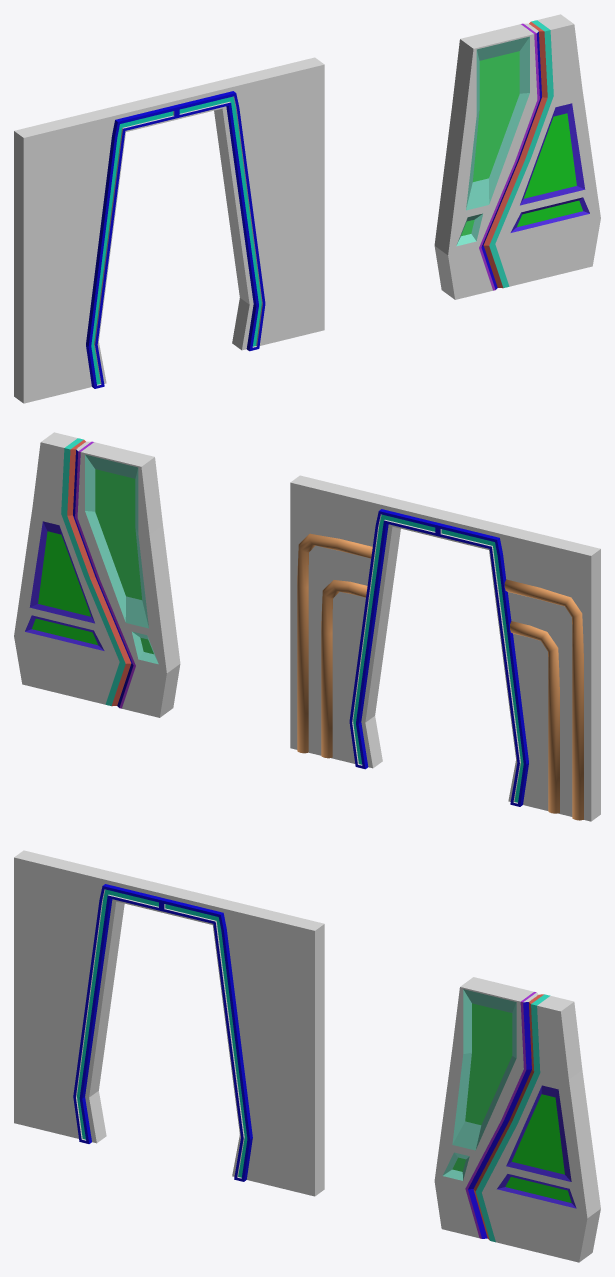
Rendered from Puerta+ParedCh.fbx.
The picture shows the model from 3 angles, top to bottom: view 1: azimuth 30°, elevation 25°; view 2: azimuth 150°, elevation 25°; view 3: azimuth 330°, elevation 25°; orthographic projection.
Parts seen in each view (by area): view 1: ParedPPuertaCh, PartePuertaCh1.006, PartePuertaCh1.001, ParedPPuertaCh.003, PartePuertaCh1.009, PartePuertaCh1, PartePuertaCh1.004, ParedPPuertaCh.002, PartePuertaCh1.005, PartePuertaCh1.003, PartePuertaCh1.007, PartePuertaCh1.008 (+1 smaller); view 2: ParedPPuertaCh, ParedPPuertaCh.001, PartePuertaCh1.006, PartePuertaCh1.001, ParedPPuertaCh.003, PartePuertaCh1.009, PartePuertaCh1, PartePuertaCh1.004, ParedPPuertaCh.002, PartePuertaCh1.005, PartePuertaCh1.003, PartePuertaCh1.007 (+2 smaller); view 3: ParedPPuertaCh, PartePuertaCh1.006, PartePuertaCh1.001, ParedPPuertaCh.003, PartePuertaCh1.009, PartePuertaCh1, PartePuertaCh1.004, ParedPPuertaCh.002, PartePuertaCh1.005, PartePuertaCh1.003, PartePuertaCh1.002, PartePuertaCh1.007 (+1 smaller).
Part boxes in pixels (<box>): ParedPPuertaCh: <box>14,57,324,403</box>; PartePuertaCh1.006: <box>495,14,600,286</box>; PartePuertaCh1.001: <box>434,23,538,299</box>; ParedPPuertaCh.003: <box>86,91,265,388</box>; PartePuertaCh1.009: <box>461,51,519,236</box>; PartePuertaCh1: <box>456,36,529,246</box>; PartePuertaCh1.004: <box>517,113,582,227</box>; ParedPPuertaCh.002: <box>91,96,261,384</box>; PartePuertaCh1.005: <box>510,103,589,232</box>; PartePuertaCh1.003: <box>489,20,553,287</box>; PartePuertaCh1.007: <box>483,22,547,288</box>; PartePuertaCh1.008: <box>479,23,539,290</box>; ParedPPuertaCh: <box>290,475,600,821</box>; ParedPPuertaCh.001: <box>297,533,583,820</box>; PartePuertaCh1.006: <box>14,432,119,704</box>; PartePuertaCh1.001: <box>76,441,180,717</box>; ParedPPuertaCh.003: <box>349,509,528,806</box>; PartePuertaCh1.009: <box>95,469,153,654</box>; PartePuertaCh1: <box>85,454,158,664</box>; PartePuertaCh1.004: <box>32,531,97,645</box>; ParedPPuertaCh.002: <box>353,514,523,802</box>; PartePuertaCh1.005: <box>25,521,104,650</box>; PartePuertaCh1.003: <box>61,438,125,705</box>; PartePuertaCh1.007: <box>67,440,131,706</box>; ParedPPuertaCh: <box>14,850,324,1196</box>; PartePuertaCh1.006: <box>482,996,600,1262</box>; PartePuertaCh1.001: <box>434,977,538,1238</box>; ParedPPuertaCh.003: <box>73,884,252,1181</box>; PartePuertaCh1.009: <box>452,1003,512,1171</box>; PartePuertaCh1: <box>442,989,516,1180</box>; PartePuertaCh1.004: <box>505,1094,571,1202</box>; ParedPPuertaCh.002: <box>77,889,247,1177</box>; PartePuertaCh1.005: <box>497,1085,576,1208</box>; PartePuertaCh1.003: <box>475,994,550,1242</box>; PartePuertaCh1.002: <box>468,1002,531,1238</box>; PartePuertaCh1.007: <box>473,994,543,1239</box>.
Size of the model in its own units: 680 by 300 by 31.56.
